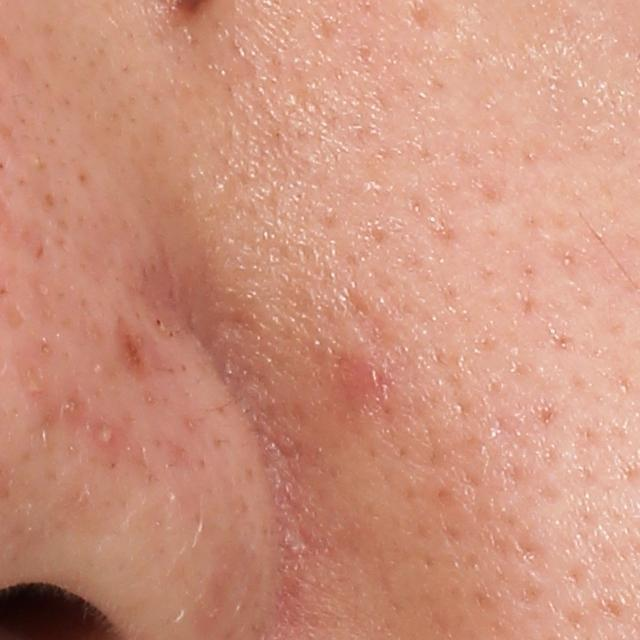pustule: (95, 422, 124, 449)
